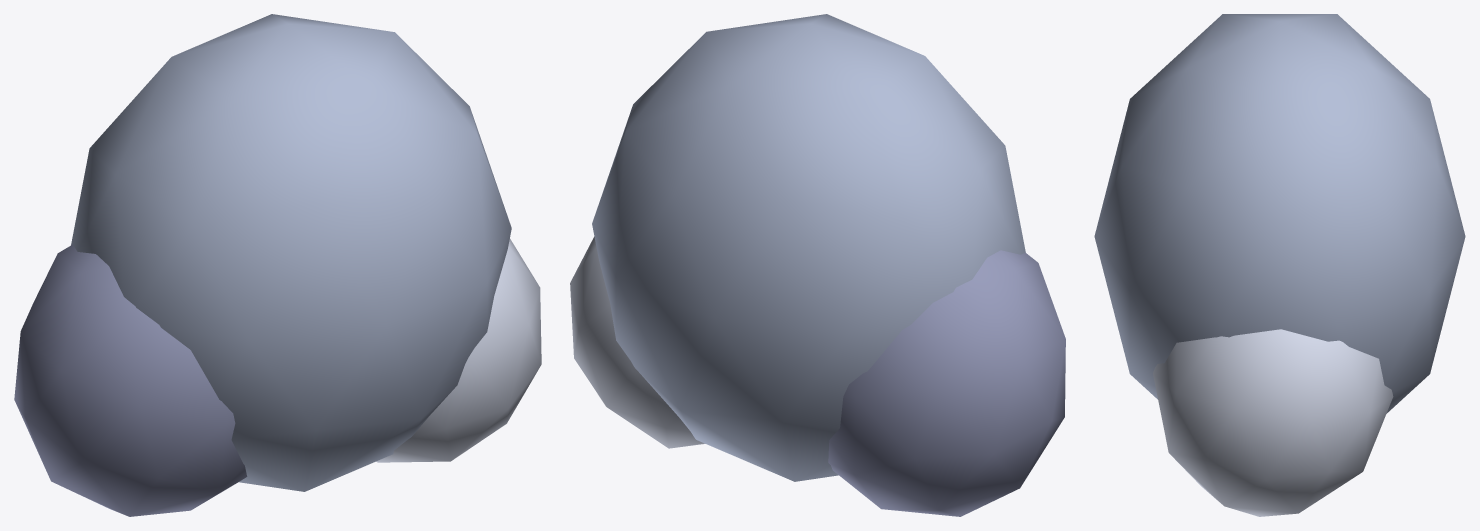
The model's file is northern_mountain.glb.
The picture shows the model from 3 angles, left to right: view 1: azimuth 30°, elevation 25°; view 2: azimuth 150°, elevation 25°; view 3: azimuth 270°, elevation 25°; orthographic projection. The views are drawn at different scales.
Visible parts, largest first — view 1: PeakCore, PeakLeft, PeakRight; view 2: PeakCore, PeakLeft, PeakRight; view 3: PeakCore, PeakRight.
Boxes of the visible parts, left/top/right/bottom form: PeakCore: left=71, top=14, right=511, bottom=491; PeakLeft: left=14, top=244, right=247, bottom=516; PeakRight: left=376, top=239, right=541, bottom=462; PeakCore: left=592, top=14, right=1025, bottom=481; PeakLeft: left=828, top=250, right=1065, bottom=516; PeakRight: left=570, top=236, right=705, bottom=448; PeakCore: left=1094, top=14, right=1465, bottom=413; PeakRight: left=1153, top=329, right=1393, bottom=516.
Bounding box in the file's own units: 6.1 × 5.5 × 4.3.
